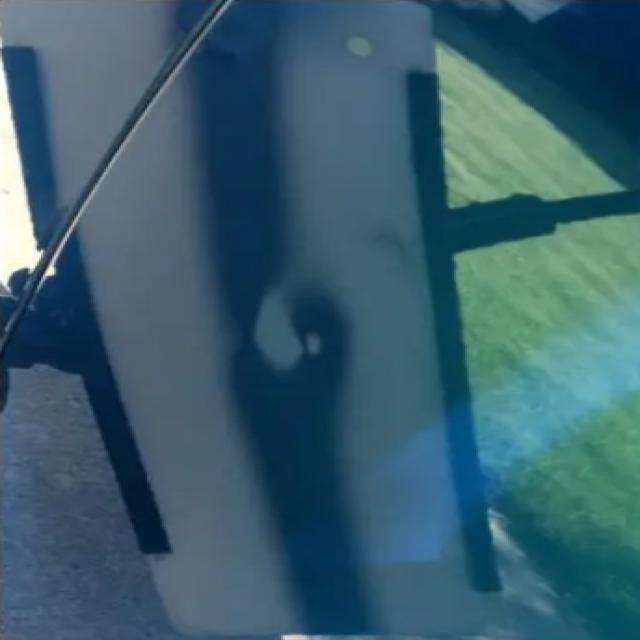dents: (233, 293, 358, 398)
